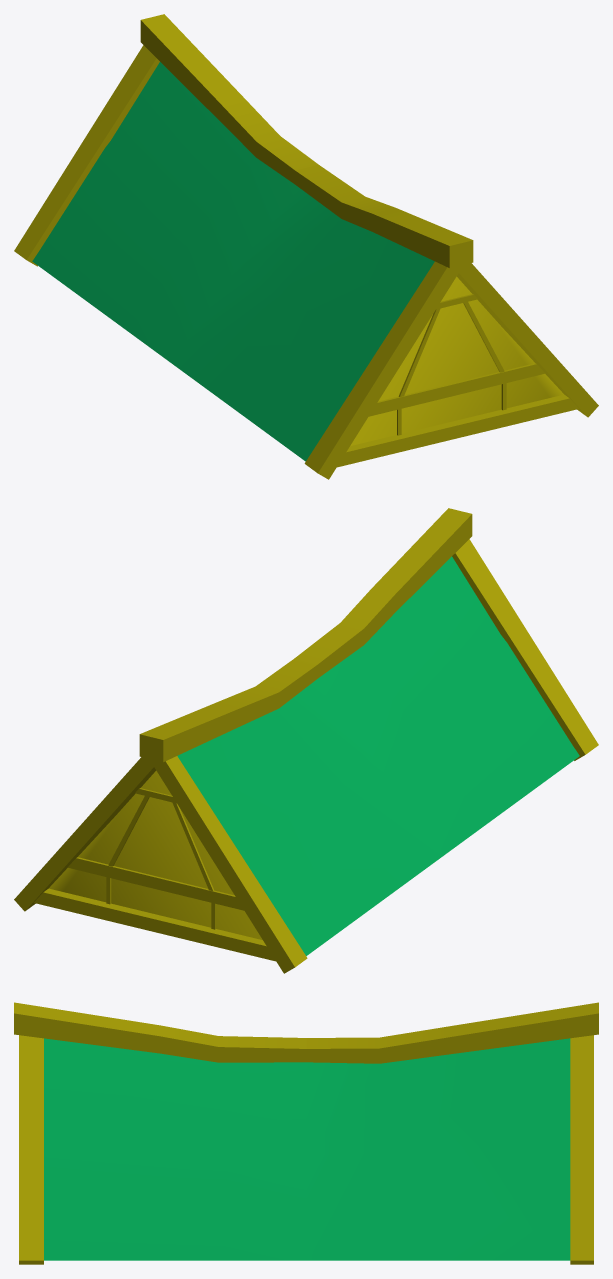
File: Roof_Type4_New.fbx
3 views of the same model, one above another, from view 1: azimuth 30°, elevation 25°; view 2: azimuth 150°, elevation 25°; view 3: azimuth 270°, elevation 25° (orthographic). The views are drawn at different scales.
Parts seen in each view (by area): view 1: Roof_Type4; view 2: Roof_Type4; view 3: Roof_Type4.
Boxes of the visible parts, x1,y1,x2,y2 form: Roof_Type4: [14, 14, 598, 479]; Roof_Type4: [14, 508, 598, 973]; Roof_Type4: [14, 1002, 598, 1264].
Size of the model in its own units: 559 by 395 by 1064.
